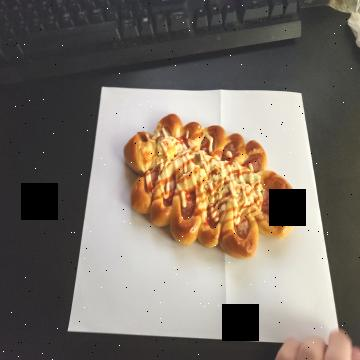pizza_bread: (122, 114, 298, 259)
